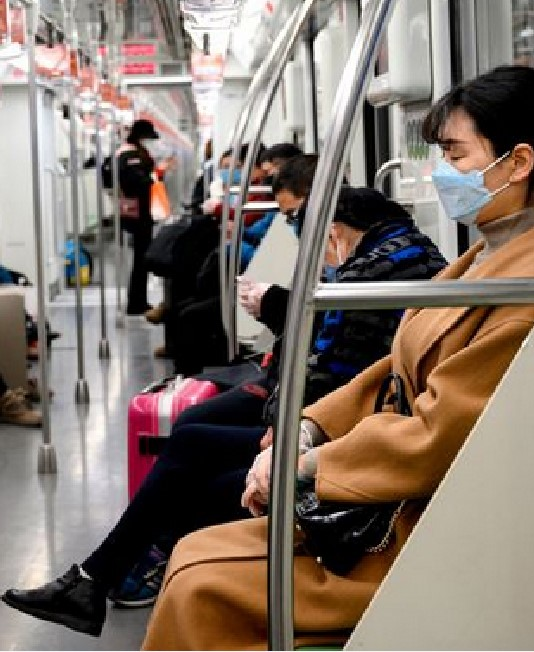face_with_mask: (423, 63, 532, 232)
